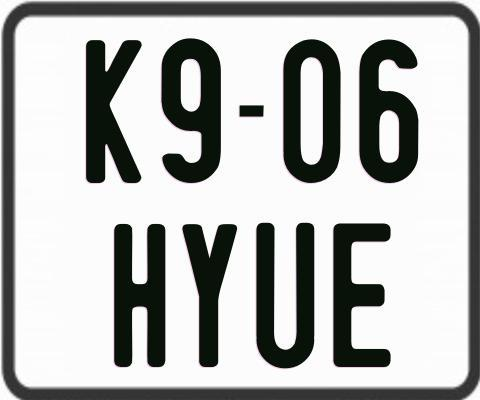0: (282, 38, 341, 183)
6: (357, 39, 420, 184)
9: (159, 36, 221, 182)
E: (333, 224, 394, 367)
H: (112, 223, 163, 371)
K: (84, 39, 145, 185)
U: (256, 221, 318, 369)
Y: (179, 224, 237, 372)
